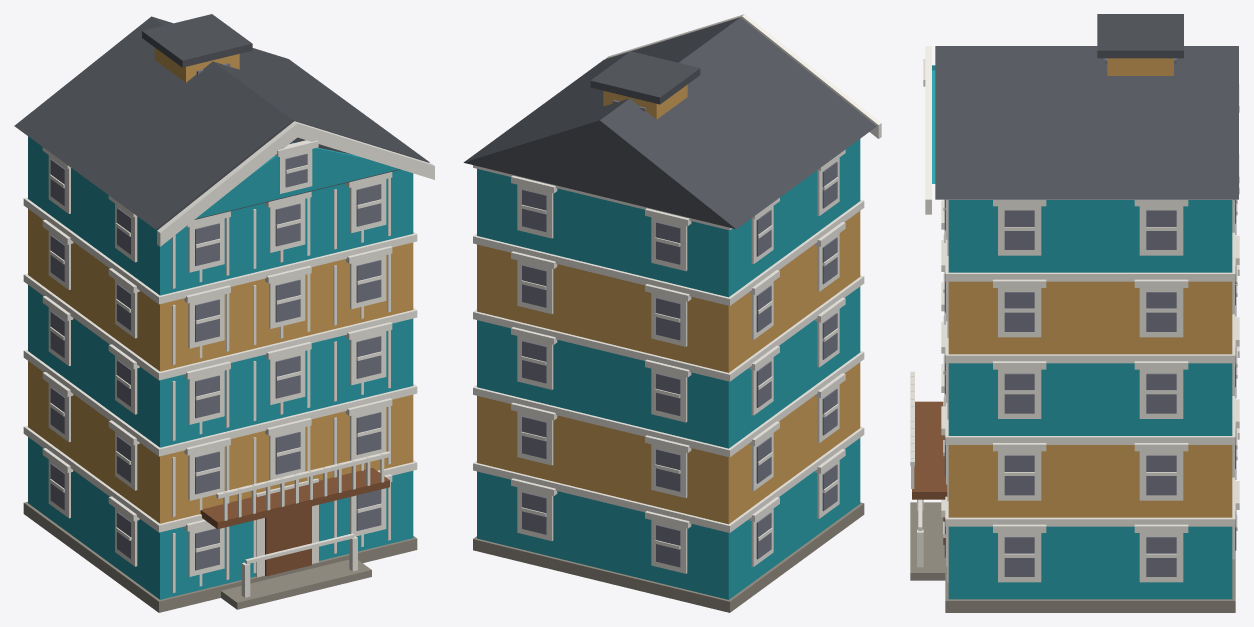
File: house-1x1-5f-valparaiso-a.glb
3 renders of one model, left to right at view 1: azimuth 30°, elevation 25°; view 2: azimuth 150°, elevation 25°; view 3: azimuth 270°, elevation 25°, orthographic. The views are drawn at different scales.
Parts seen in each view (by area): view 1: house-1x1-5f-valparaiso-a; view 2: house-1x1-5f-valparaiso-a; view 3: house-1x1-5f-valparaiso-a.
Boxes of the visible parts, x1,y1,x2,y2 form: house-1x1-5f-valparaiso-a: (14, 14, 434, 612); house-1x1-5f-valparaiso-a: (463, 14, 881, 612); house-1x1-5f-valparaiso-a: (910, 14, 1239, 612).
Bounding box in the file's own units: 1.02 × 1.7 × 0.987.
Materials: 1 (1 with a texture image).
